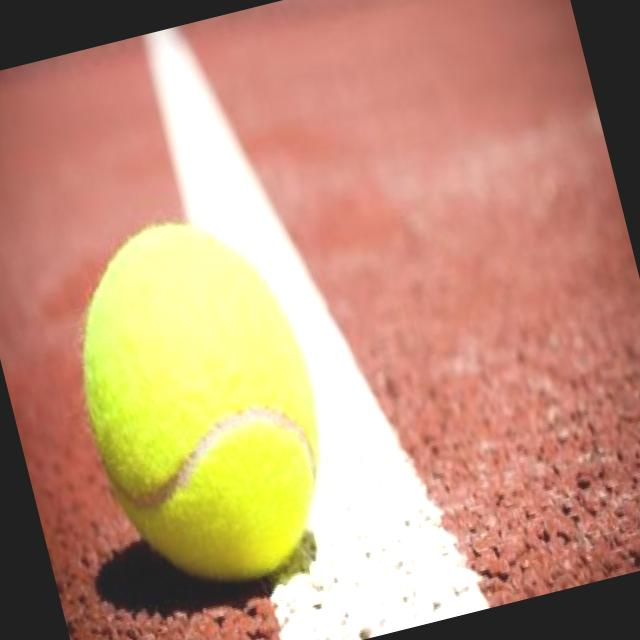Tennis Ball: (81, 226, 319, 581)
